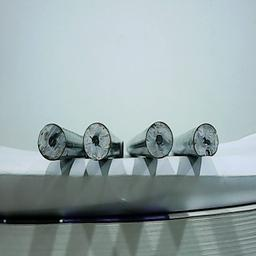pen: (36, 121, 63, 160), (82, 121, 109, 160), (193, 121, 218, 156), (145, 120, 167, 156)
